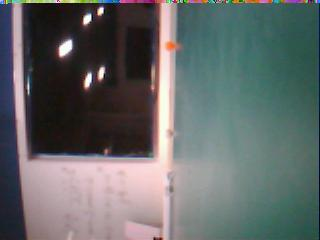oball: (164, 40, 174, 51)
